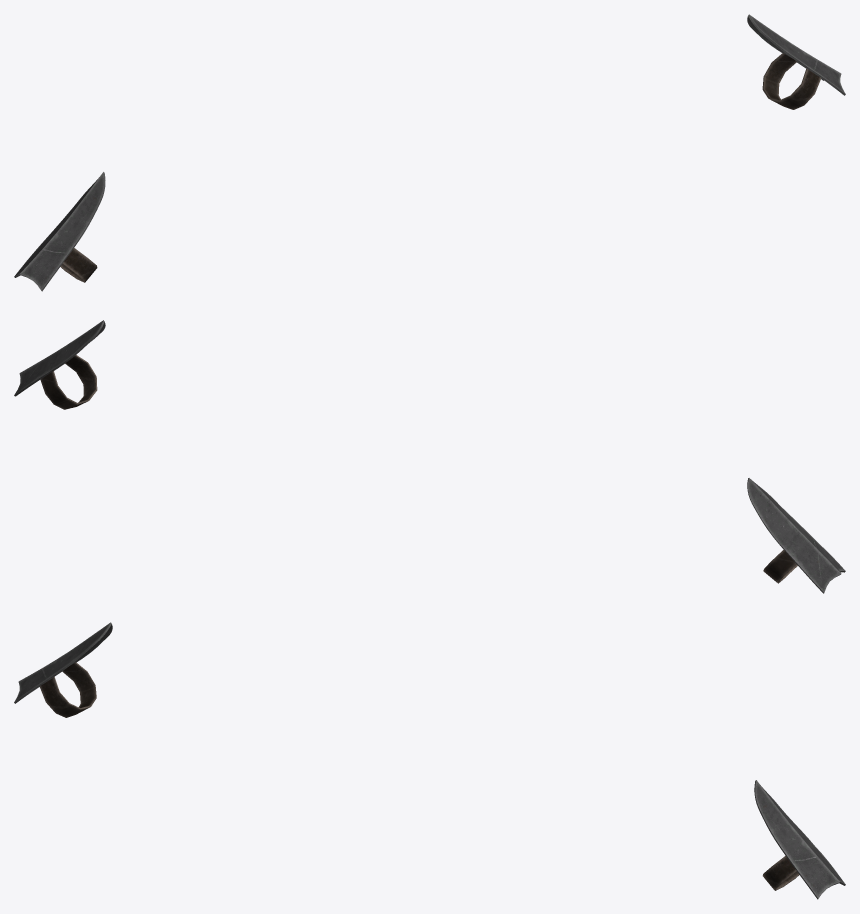
File: sk_uruk_hai_bracer_light_a1.fbx
3 views of the same model, one above another, from view 1: azimuth 30°, elevation 25°; view 2: azimuth 150°, elevation 25°; view 3: azimuth 330°, elevation 25° (orthographic).
Visible parts, largest first — view 1: sk_uruk_hai_bracer_light_a1.0, sk_uruk_hai_bracer_light_a1.1; view 2: sk_uruk_hai_bracer_light_a1.0, sk_uruk_hai_bracer_light_a1.1; view 3: sk_uruk_hai_bracer_light_a1.0, sk_uruk_hai_bracer_light_a1.1.
Boxes of the visible parts, x1,y1,x2,y2 form: sk_uruk_hai_bracer_light_a1.0: (14, 14, 845, 291); sk_uruk_hai_bracer_light_a1.1: (60, 53, 821, 282); sk_uruk_hai_bracer_light_a1.0: (14, 320, 845, 593); sk_uruk_hai_bracer_light_a1.1: (40, 355, 797, 583); sk_uruk_hai_bracer_light_a1.0: (14, 622, 845, 899); sk_uruk_hai_bracer_light_a1.1: (39, 662, 799, 890).
Size of the model in its own units: 1.45 by 0.0966 by 0.1638.
2 materials, 2 textured.
